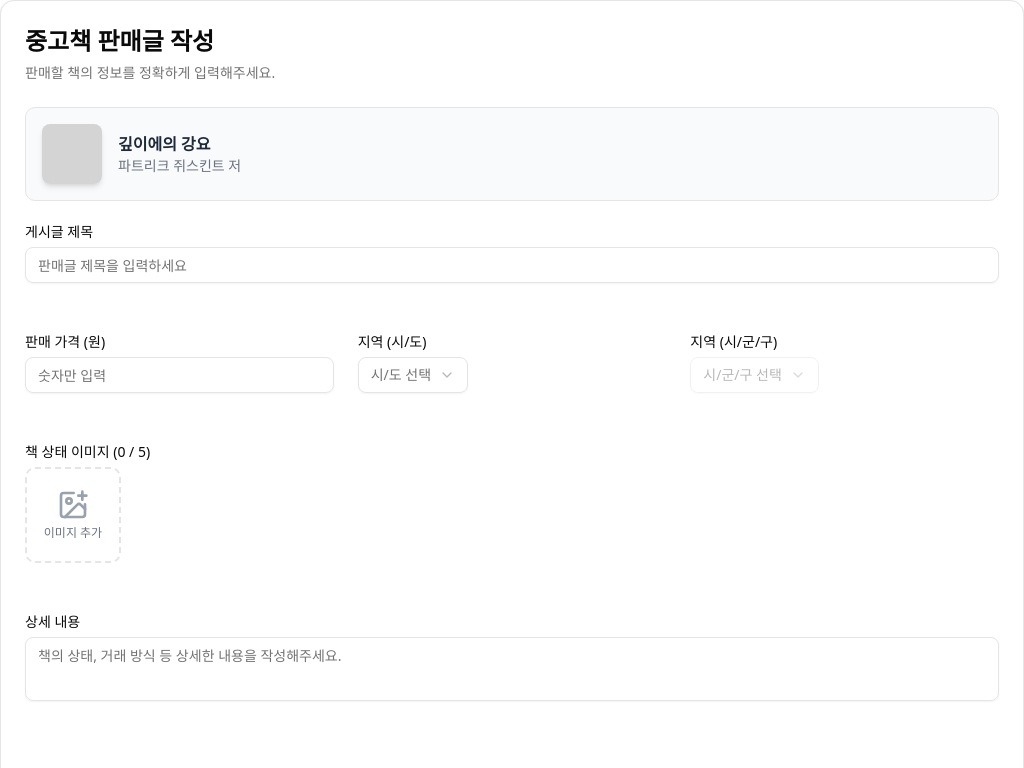
Test: BookSaleForm › 지역 선택 유효성 검사 › 시/도를 선택하지 않았을 때 에러 메시지를 표시해야 한다
Type "테스트 판매글입니다" into the field with placeholder "판매글 제목을 입력하세요" at (512, 265), box [25,247,999,283]
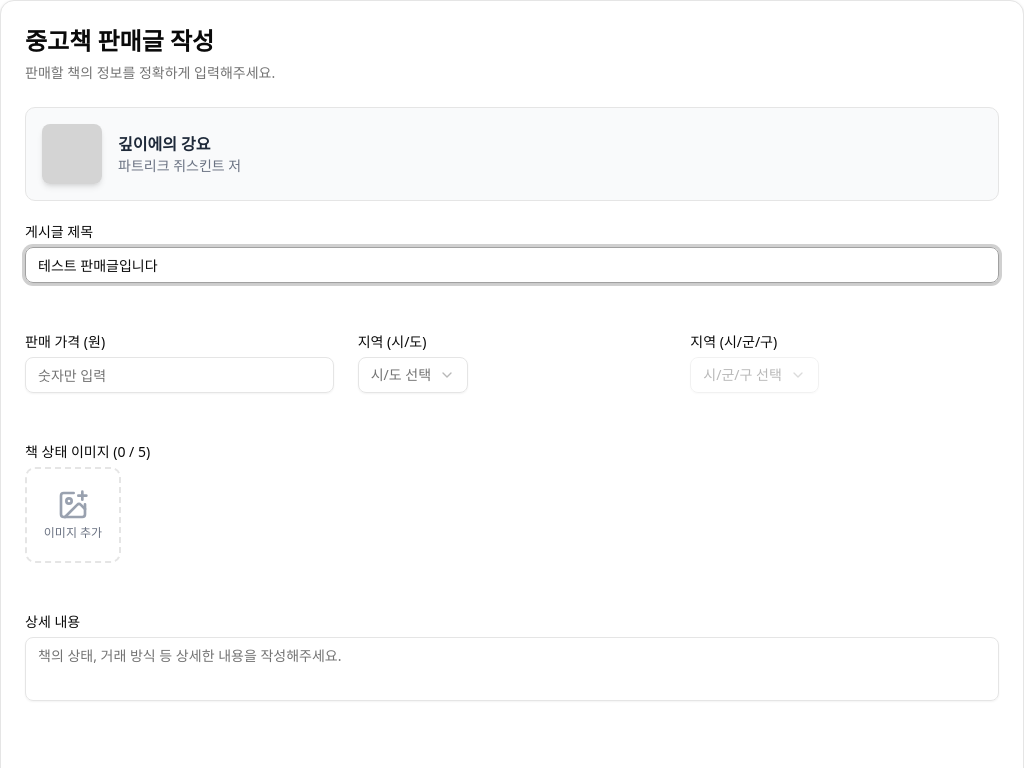
Type "10000" into the number field with placeholder "숫자만 입력" at (179, 375), box [25,357,334,393]
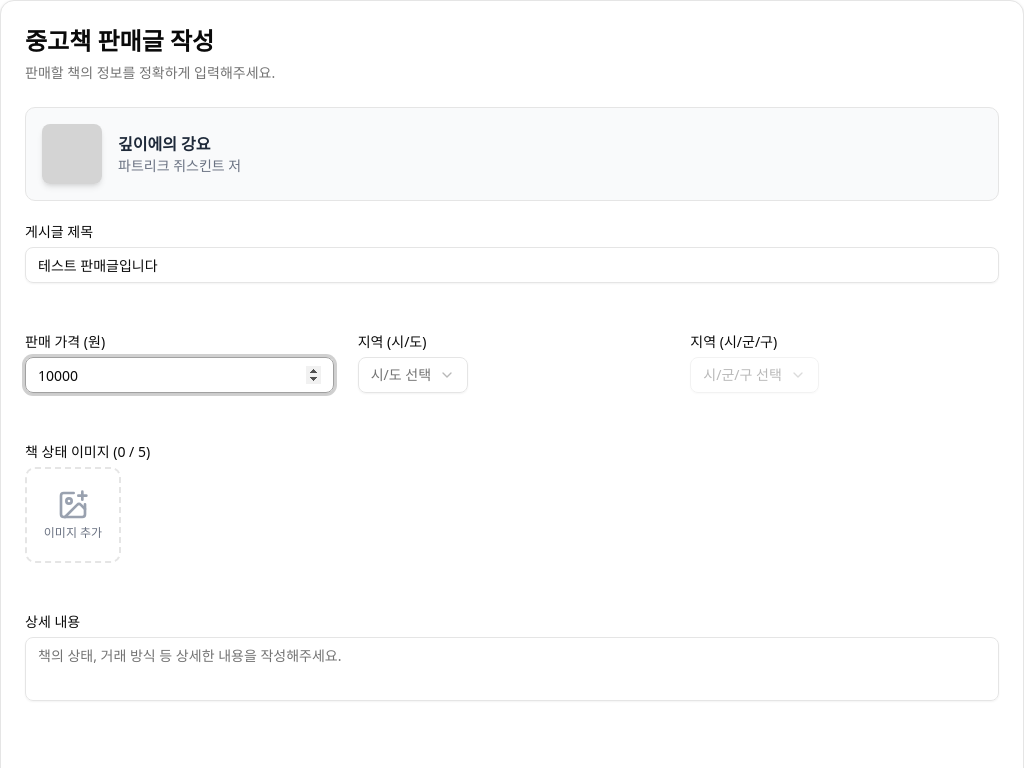
Type "상태 좋습니다. 거래 원해요." into the text box with placeholder "책의 상태, 거래 방식 등 상세한 내용을 작성해주세요." at (512, 669), box [25,637,999,701]
(page scrolled)
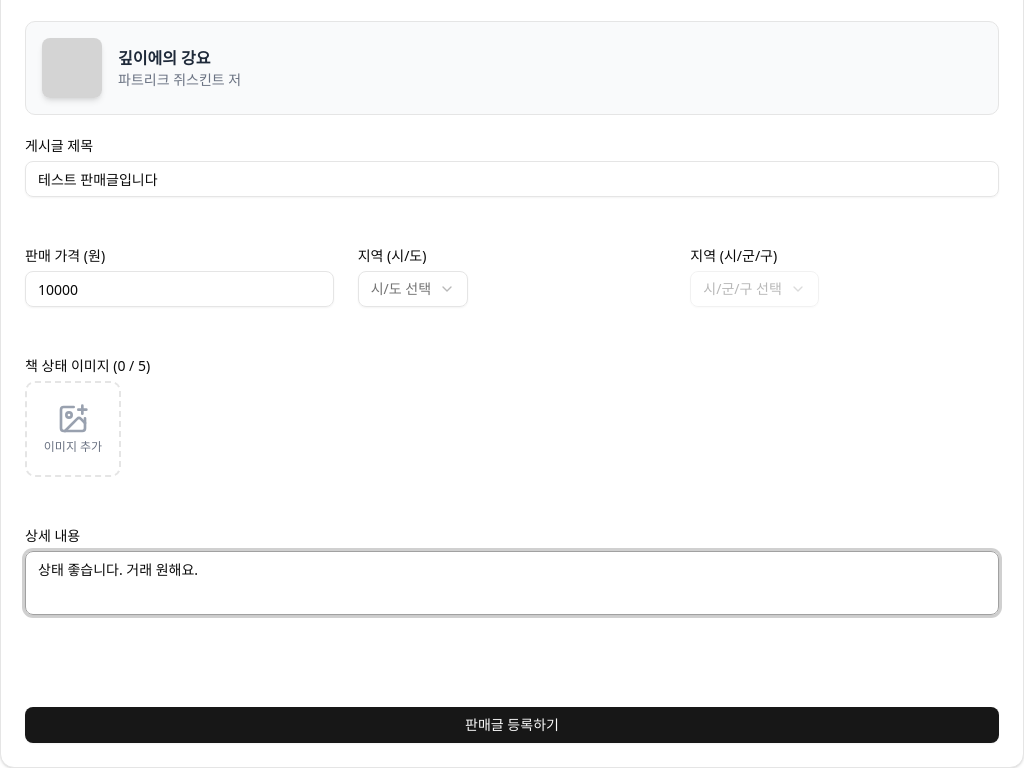
Click the button "판매글 등록하기" at (512, 725), box [25,707,999,743]
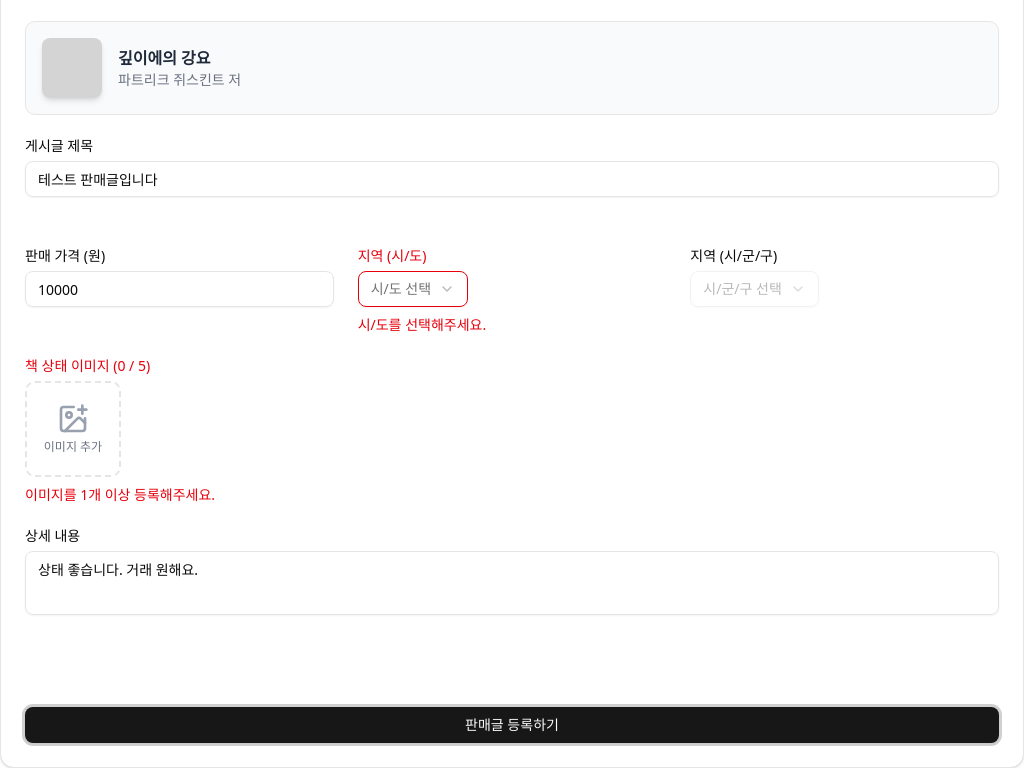
Now the text "시/도를 선택해주세요." is shown, box [358,315,486,334]
